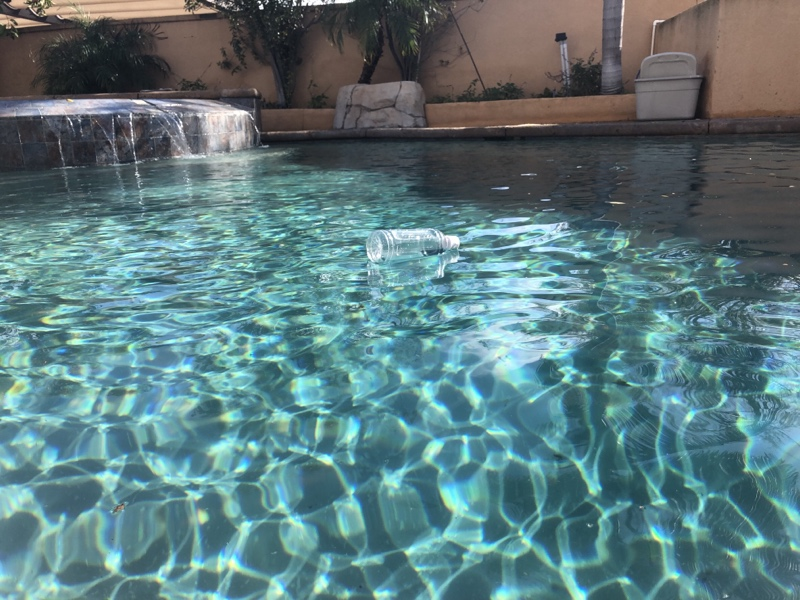Plastic Bottle: (363, 223, 463, 264)
